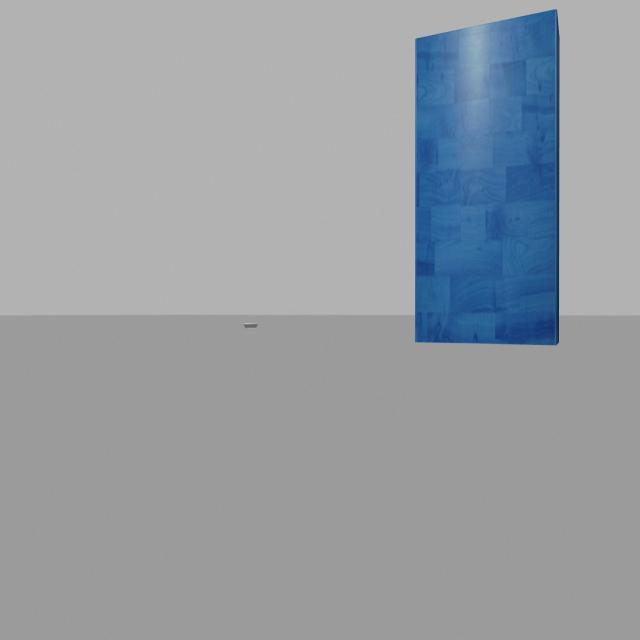bowl: (240, 317, 264, 333)
shelf: (396, 3, 578, 362)
